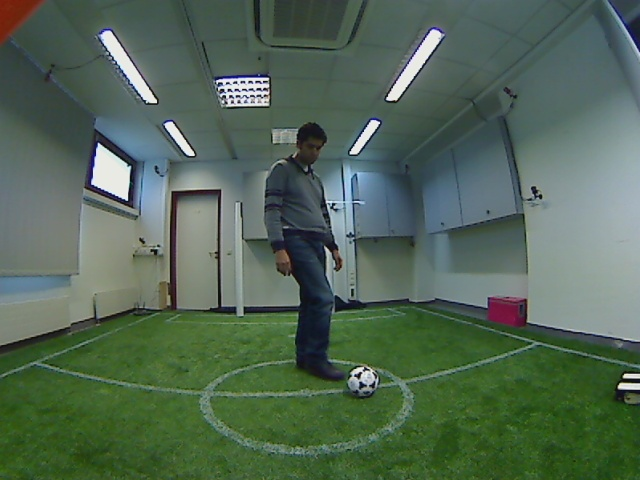ball: (338, 356, 385, 404)
